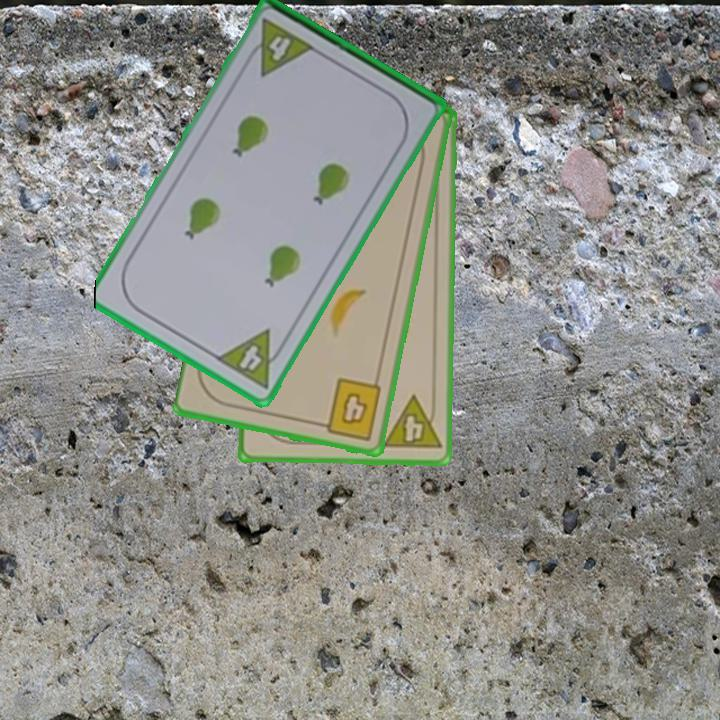4b: (314, 374, 385, 443)
4p: (212, 326, 291, 392), (241, 15, 318, 80), (379, 392, 444, 453)
